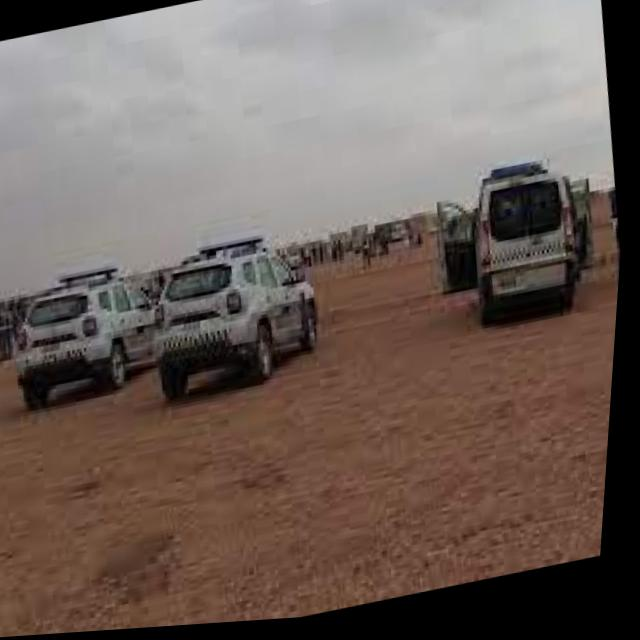gendarme car: (143, 225, 340, 413), (0, 253, 170, 434)
